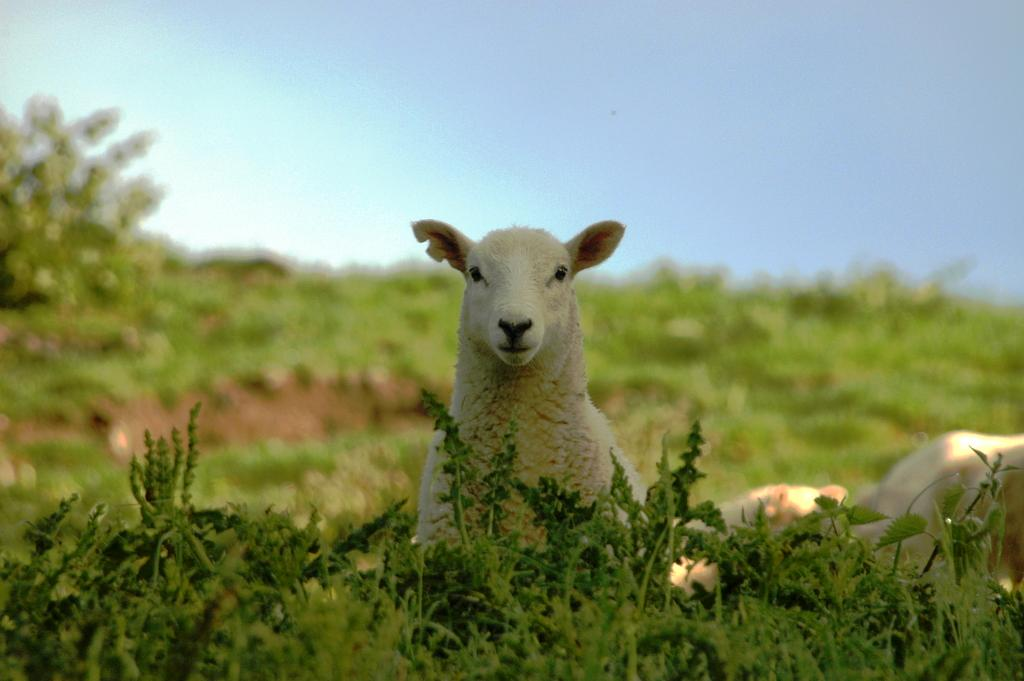Sheep: (412, 221, 646, 556)
